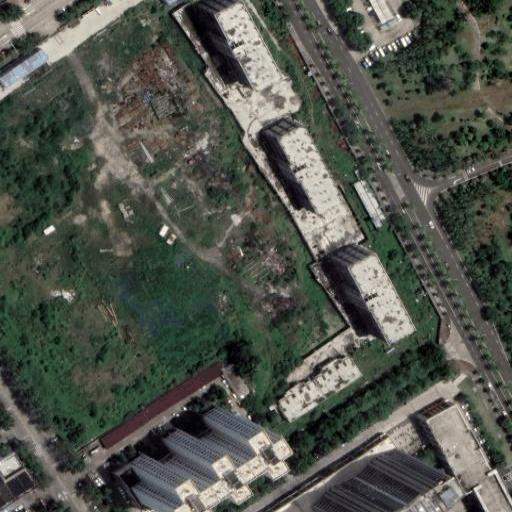building: (122, 404, 246, 502), (415, 400, 507, 512), (266, 435, 396, 512), (317, 445, 418, 512), (324, 240, 394, 336), (260, 116, 328, 209), (191, 0, 263, 85), (276, 354, 363, 422), (142, 359, 225, 421), (99, 410, 155, 455), (354, 178, 384, 217), (222, 363, 252, 399), (5, 467, 38, 498), (369, 0, 393, 25), (42, 225, 55, 235), (159, 226, 169, 238)
